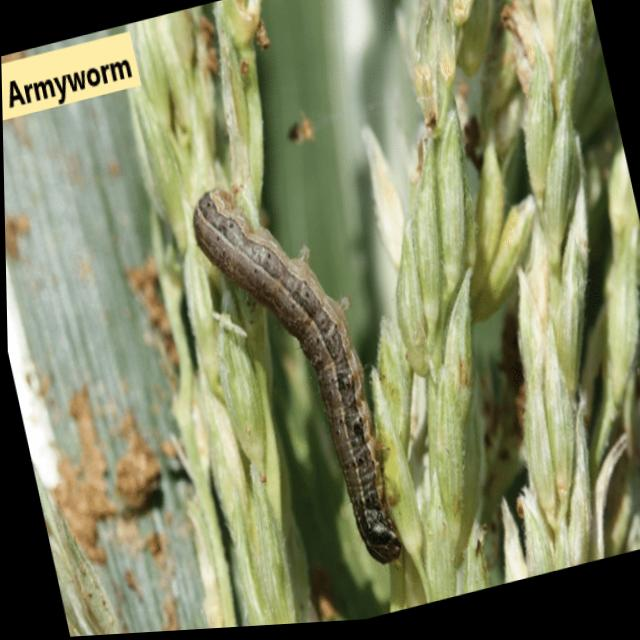Fall-Armyworm: (160, 114, 436, 628)
